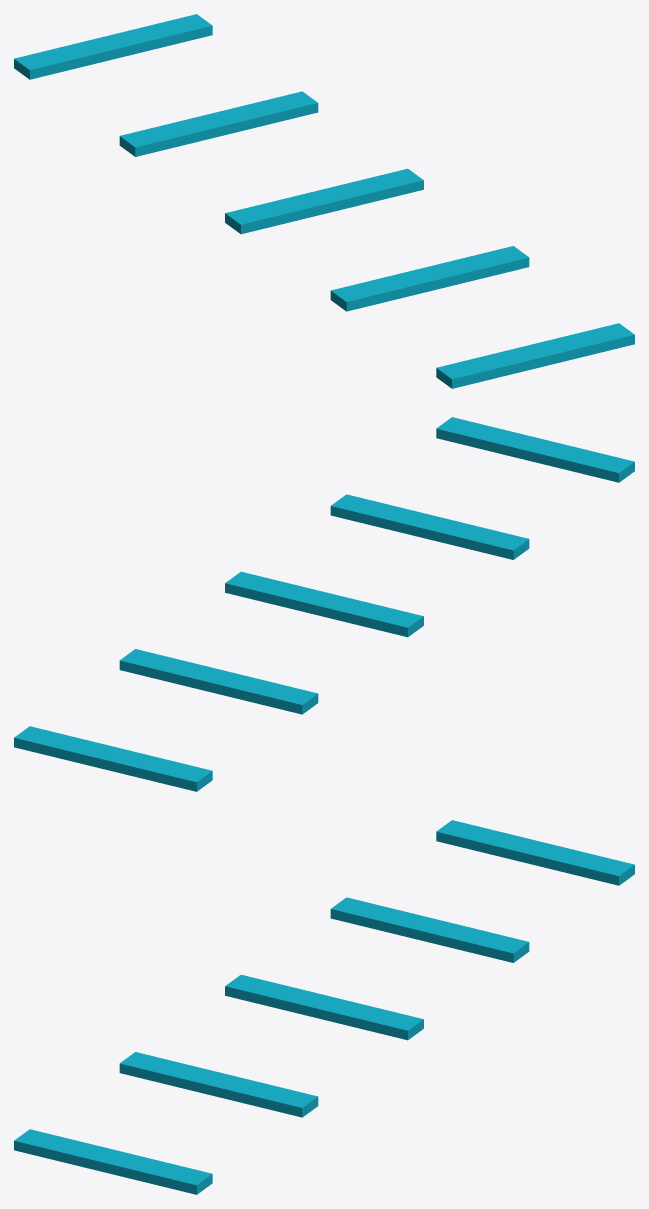
File: 095_L101_Differential_Pair_Reference.fbx
3 renders of one model, top to bottom at view 1: azimuth 30°, elevation 25°; view 2: azimuth 150°, elevation 25°; view 3: azimuth 330°, elevation 25°, orthographic.
Visible parts, largest first — view 1: Board_Reference_Marker_01, Board_Reference_Marker_03, Board_Reference_Marker_00, Board_Reference_Marker_04, Board_Reference_Marker_02; view 2: Board_Reference_Marker_01, Board_Reference_Marker_03, Board_Reference_Marker_00, Board_Reference_Marker_04, Board_Reference_Marker_02; view 3: Board_Reference_Marker_01, Board_Reference_Marker_03, Board_Reference_Marker_00, Board_Reference_Marker_04, Board_Reference_Marker_02.
Part boxes in pixels (x1,y1,x2,y2): Board_Reference_Marker_01: (119,91,318,156); Board_Reference_Marker_03: (330,246,529,311); Board_Reference_Marker_00: (14,14,212,79); Board_Reference_Marker_04: (436,323,634,388); Board_Reference_Marker_02: (225,168,423,234); Board_Reference_Marker_01: (119,649,318,714); Board_Reference_Marker_03: (330,494,529,559); Board_Reference_Marker_00: (14,726,212,791); Board_Reference_Marker_04: (436,417,634,482); Board_Reference_Marker_02: (225,571,423,637); Board_Reference_Marker_01: (330,897,529,962); Board_Reference_Marker_03: (119,1052,318,1117); Board_Reference_Marker_00: (436,820,634,885); Board_Reference_Marker_04: (14,1129,212,1194); Board_Reference_Marker_02: (225,974,423,1040).
Bounding box in the file's own units: 0.3 × 0.015 × 1.25.
